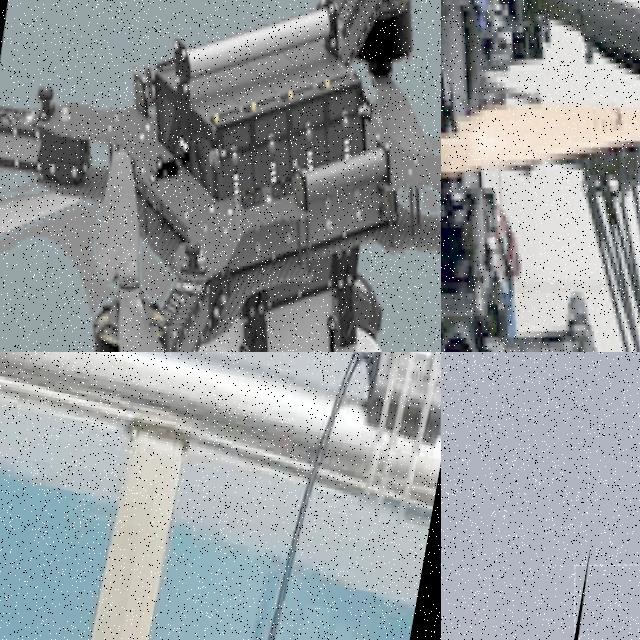drone: (0, 0, 441, 352), (441, 0, 640, 352)
